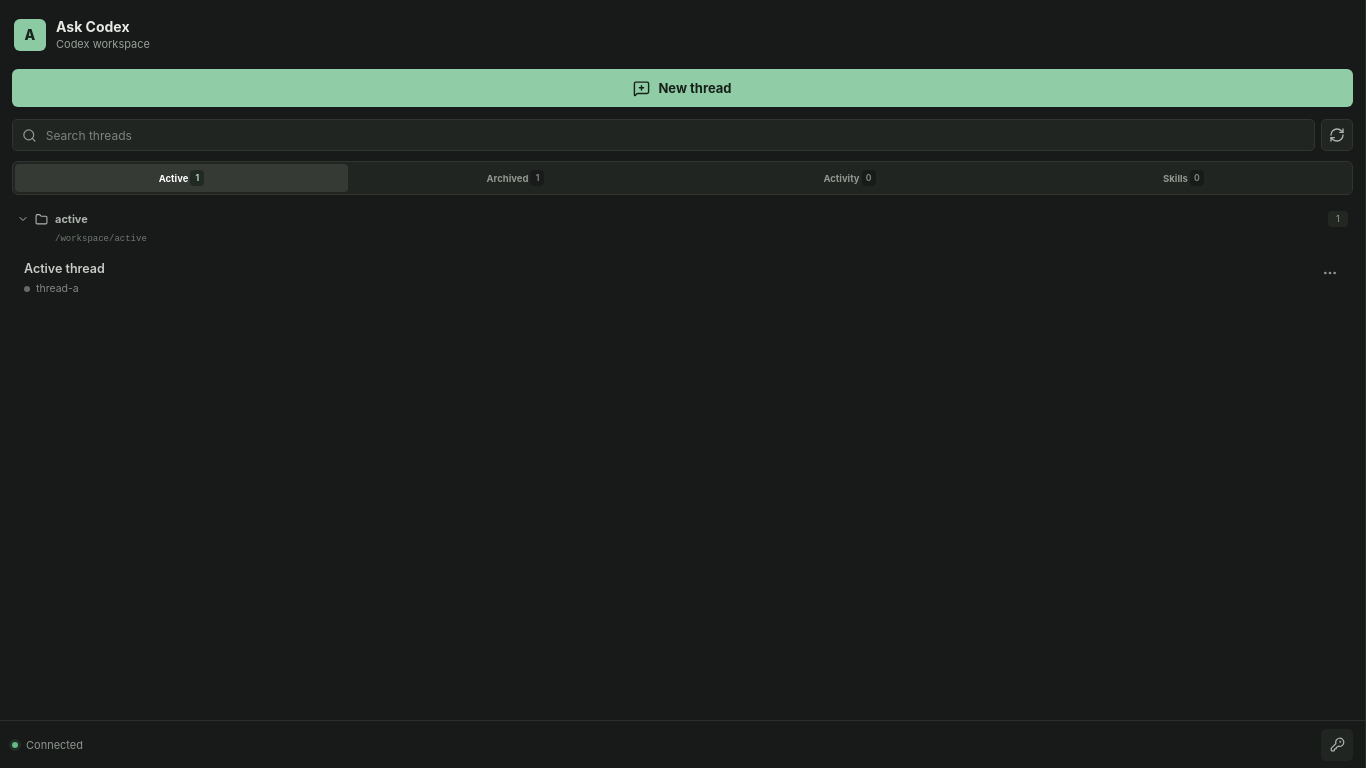
Scenario: Sidebar thread lifecycle actions › opens the shared menu on right click and closes it outside or with Escape
Right-click the button "Active thread thread-a" at (64, 268), box x1=12 y1=251 x2=1353 y2=306
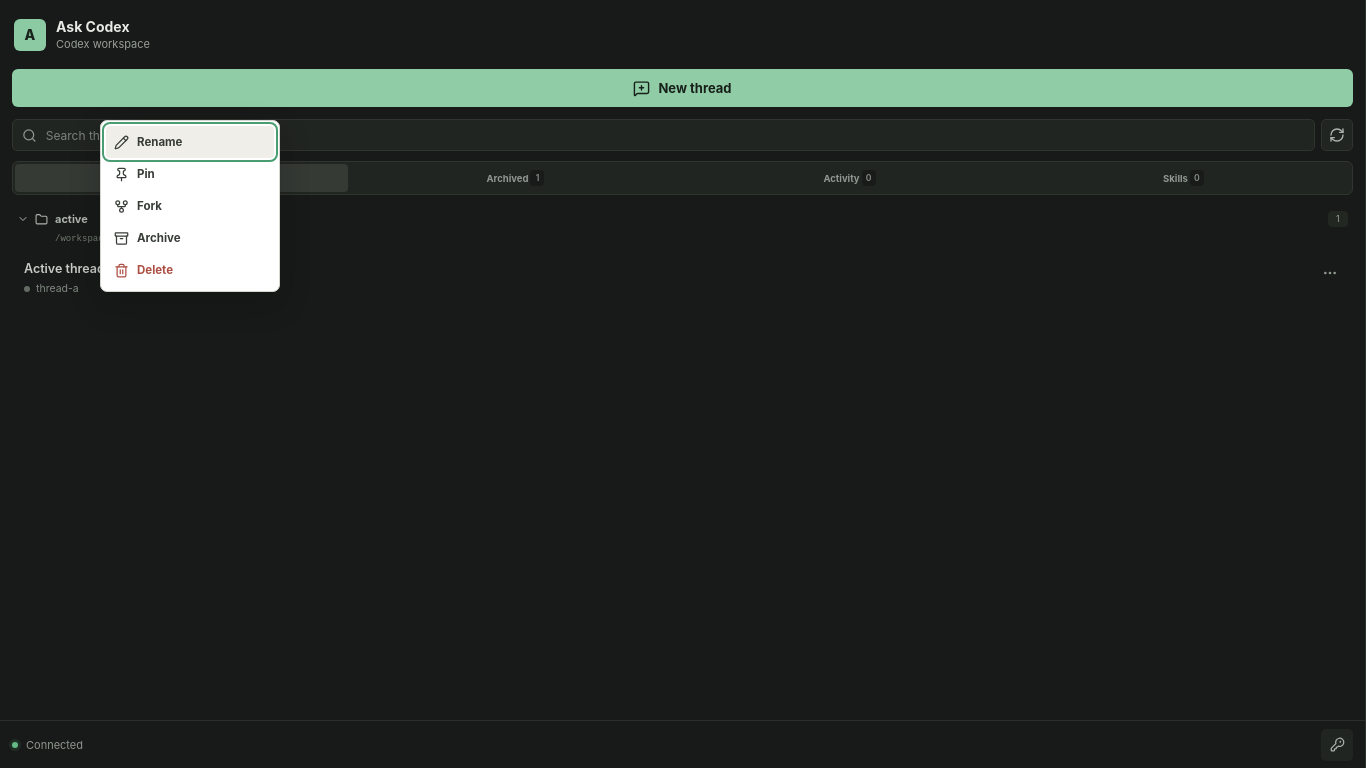
Now the menu named "Actions for Active thread" is shown, box x1=100 y1=120 x2=280 y2=292
Press the mouse on the element that starts with "Ask Codex" at (683, 384), box x1=0 y1=0 x2=1365 y2=767
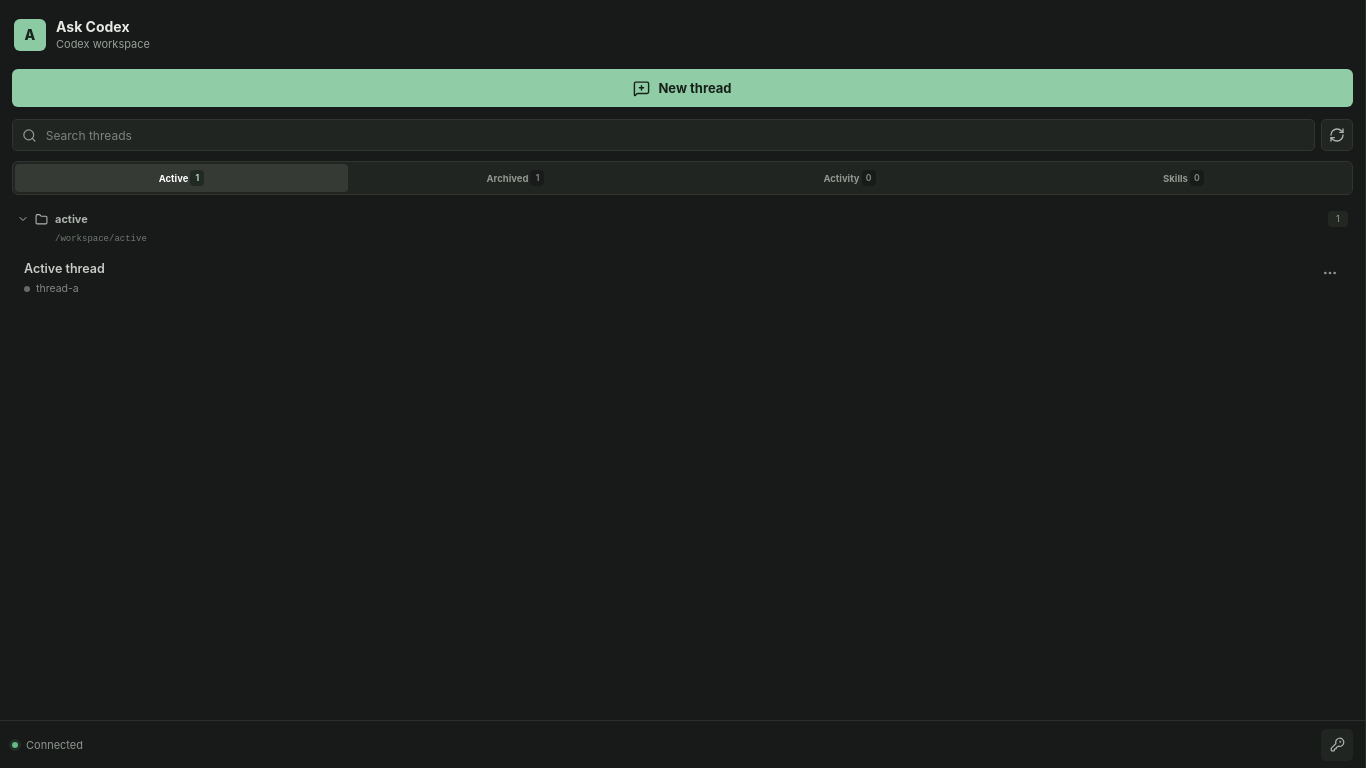
Now the menu is gone
Right-click the button "Active thread thread-a" at (64, 268), box x1=12 y1=251 x2=1353 y2=306
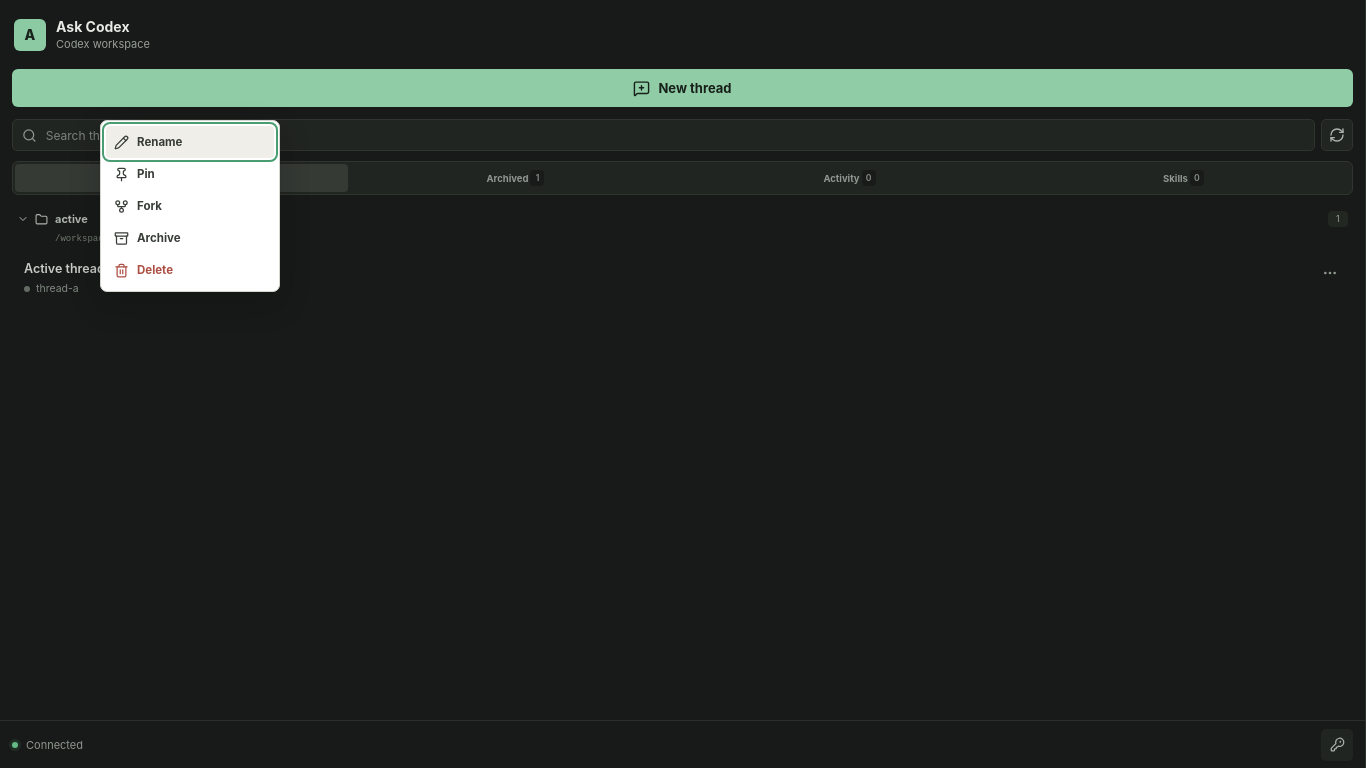
Press Escape
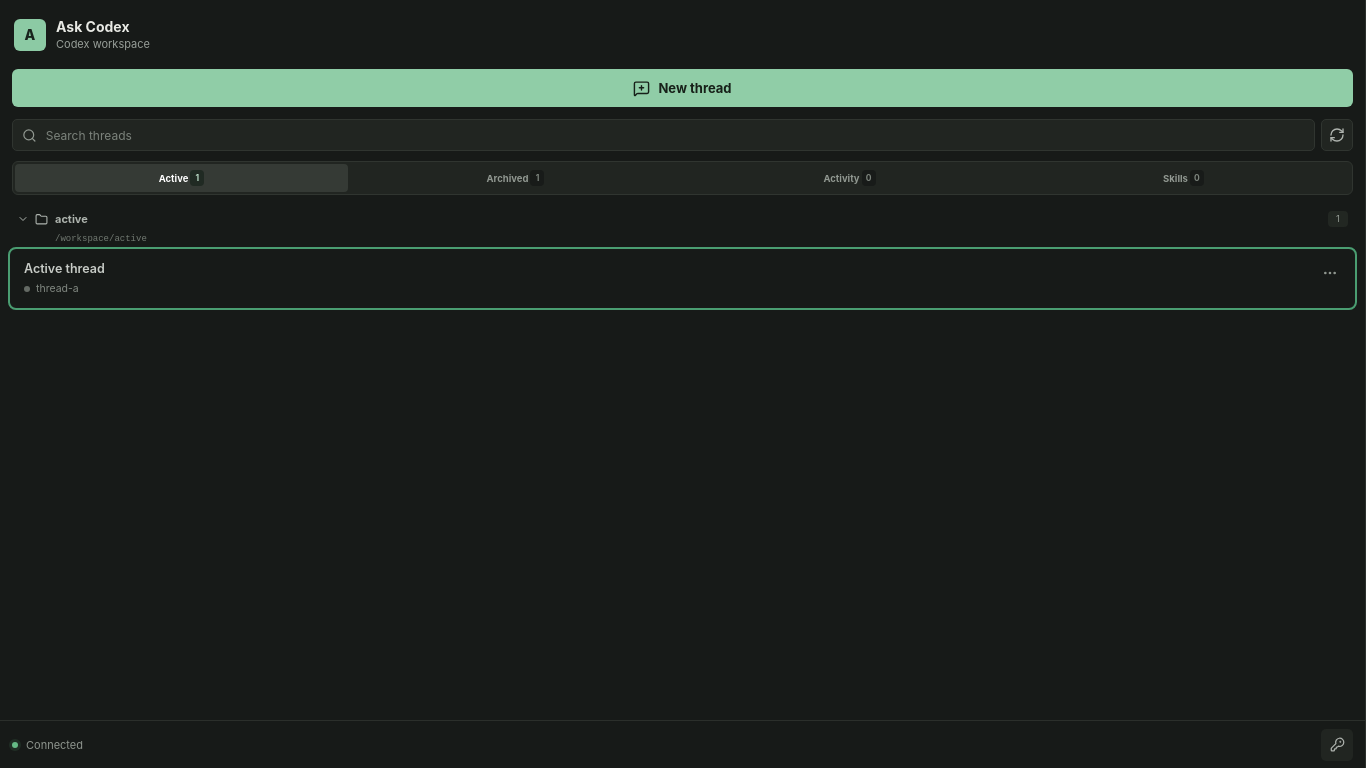
Now the menu is gone
